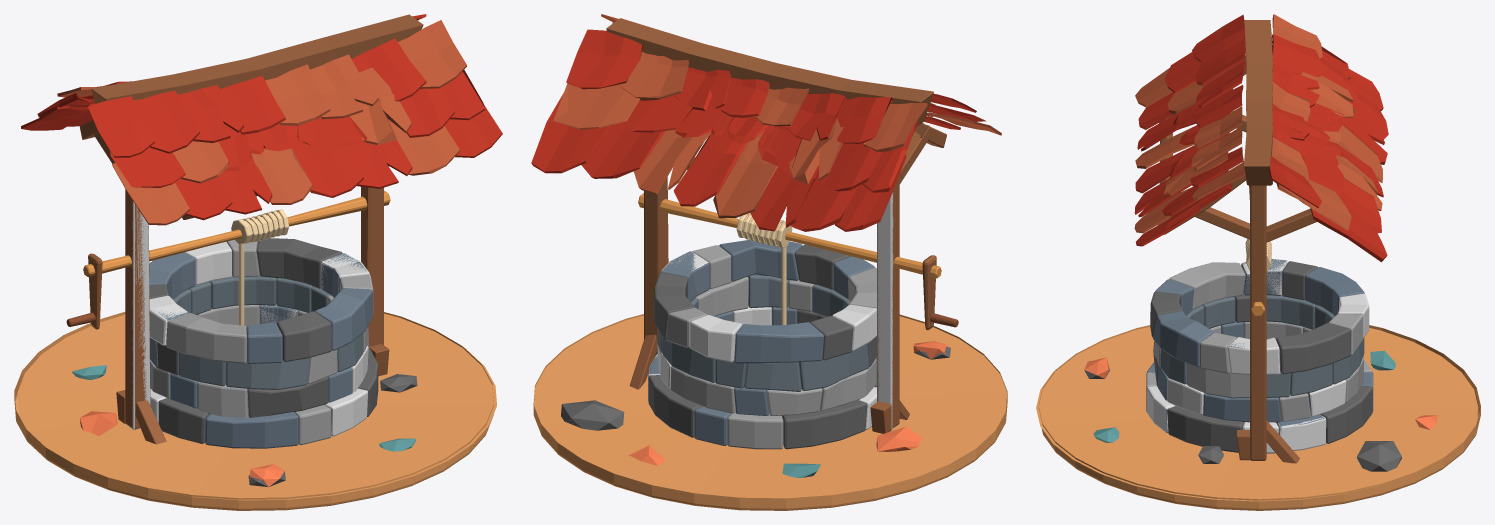
The model's file is Well.fbx.
The picture shows the model from 3 angles, left to right: view 1: azimuth 30°, elevation 25°; view 2: azimuth 150°, elevation 25°; view 3: azimuth 270°, elevation 25°; orthographic projection. The views are drawn at different scales.
Parts seen in each view (by area): view 1: Circle.001, Cube.115, Cube.020, Cube.078, Circle, Cube.018, Cube.010, Cube.032, Cube.037, Cube.028, Cube.046, Cube.035 (+48 smaller); view 2: Circle.001, Cube.115, Cube.020, Cube.078, Circle, Cube.053, Cube.019, Cube.071, Cube.068, Cube.099, Cube.070, Cube.076 (+46 smaller); view 3: Circle.001, Cube.115, Cube.020, Circle, Cube.078, Cube.010, Cube.091, Cube.018, Cube.095, Cube.024, Cube.058, Cube.076 (+62 smaller).
Part boxes in pixels (box(x1,y1,x2,y2)): Circle.001: box(17, 313, 496, 500); Cube.115: box(149, 252, 372, 448); Cube.020: box(80, 120, 389, 429); Cube.078: box(91, 14, 423, 103); Circle: box(14, 312, 493, 510); Cube.018: box(166, 313, 246, 363); Cube.010: box(256, 238, 342, 288); Cube.032: box(398, 20, 466, 88); Cube.037: box(88, 96, 154, 157); Cube.028: box(310, 54, 378, 119); Cube.046: box(292, 138, 363, 197); Cube.035: box(134, 90, 199, 153); Circle.001: box(533, 315, 1007, 498); Cube.115: box(649, 239, 876, 445); Cube.020: box(629, 122, 946, 433); Cube.078: box(606, 18, 933, 126); Circle: box(533, 314, 1007, 510); Cube.053: box(566, 29, 642, 89); Cube.019: box(877, 192, 897, 428); Cube.071: box(673, 123, 747, 206); Cube.068: box(553, 83, 639, 129); Cube.099: box(782, 400, 867, 449); Cube.070: box(713, 130, 777, 218); Cube.076: box(531, 93, 611, 173); Circle.001: box(1036, 327, 1478, 501); Cube.115: box(1147, 259, 1373, 434); Cube.020: box(1157, 55, 1316, 463); Circle: box(1038, 325, 1480, 510); Cube.078: box(1244, 20, 1272, 185); Cube.010: box(1276, 323, 1350, 374); Cube.091: box(1167, 406, 1244, 452); Cube.018: box(1169, 262, 1245, 309); Cube.095: box(1320, 386, 1372, 443); Cube.024: box(1186, 363, 1249, 398); Cube.058: box(1272, 34, 1323, 76); Cube.076: box(1310, 208, 1387, 262).
Size of the model in its own units: 2917 by 2406 by 2921.
